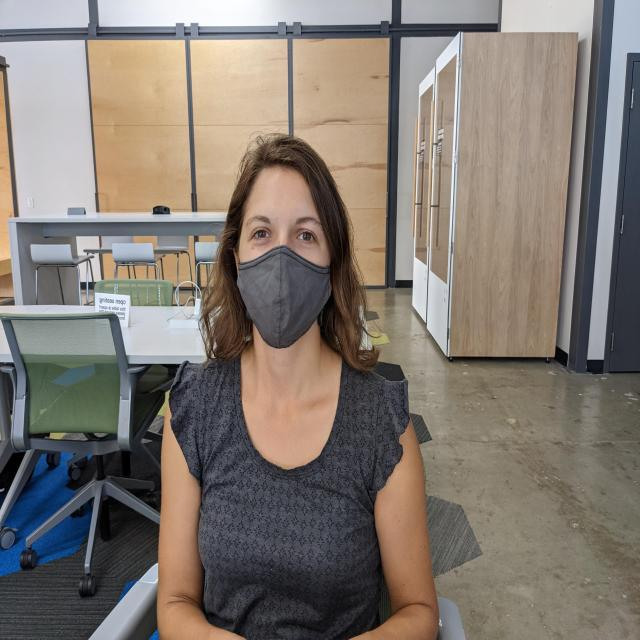face: (235, 181, 334, 351)
